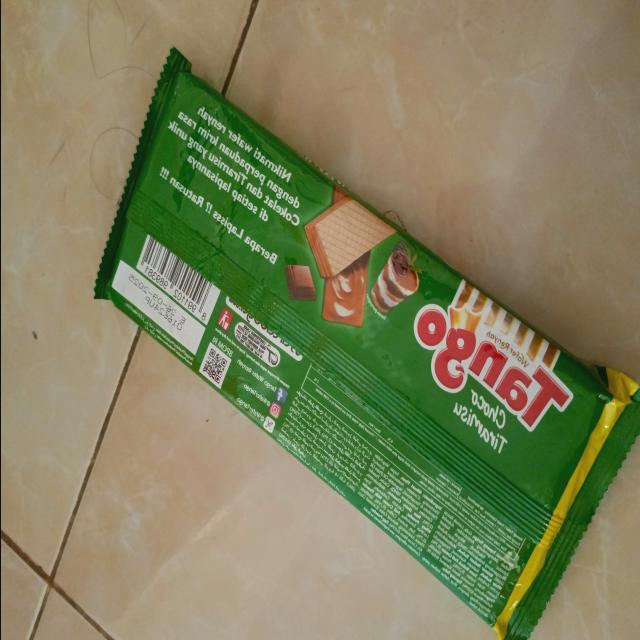tango-tiramisu: (89, 47, 640, 640)
